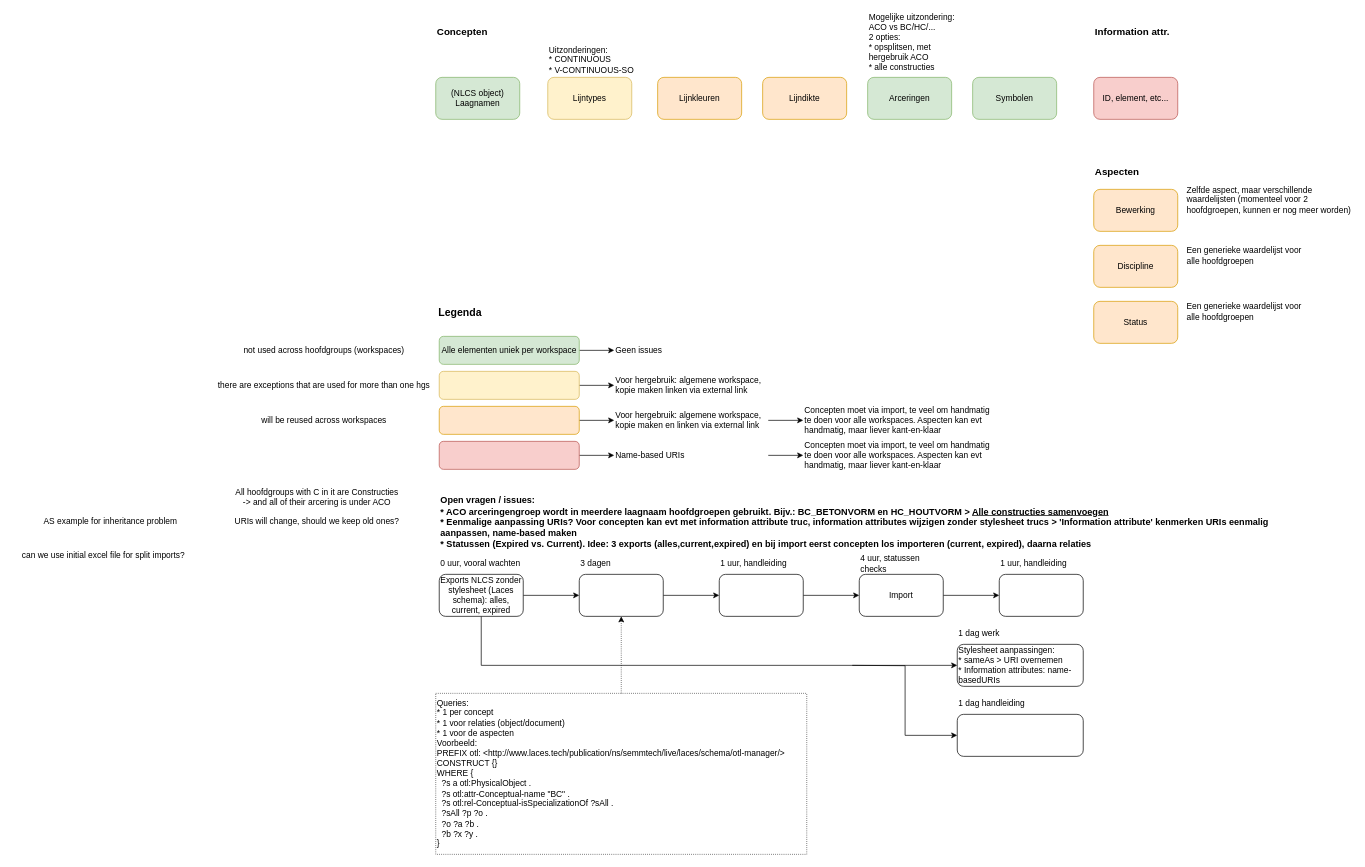
Some shapes in this 1365 by 867 pixel diagram are drawn without their labels. The shapes that lost their labels are listed below. From the top down, each one's centre as x and y in pixels, then its label:
At (x=509, y=385): "Enkele dingen die over workspaces heen hergebruikt moeten worden".
At (x=509, y=420): "Consistente behoefte voor hergebruik, generiek modelelement".
At (x=509, y=455): "Niet-concepten, die wel hergebruikt moeten worden".
At (x=621, y=595): "CONSTRUCT queries (1 per type concept), opgeleverd als Postman collectie".
At (x=761, y=595): "Workspace aanmaken + remote source".
At (x=1041, y=595): "Information attributes op (top) concepts".
At (x=1020, y=735): "Aanpassing queries (opsplitsen in GRAPHs -> default/named graphs)".
